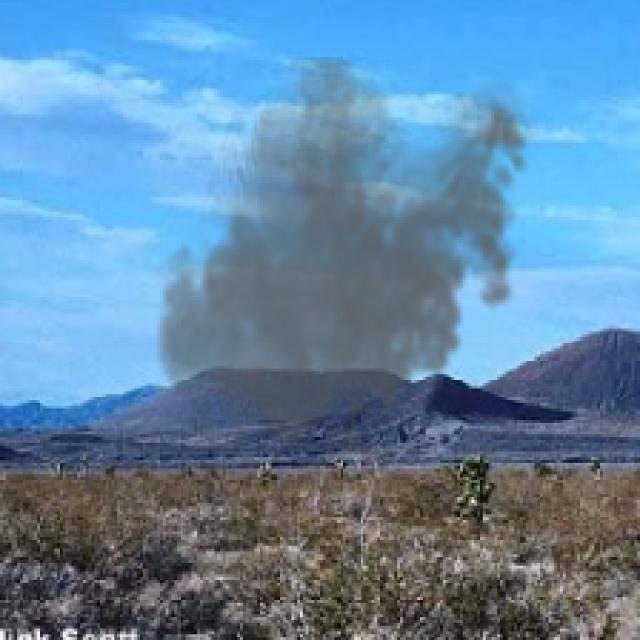smoke: (149, 57, 540, 469)
